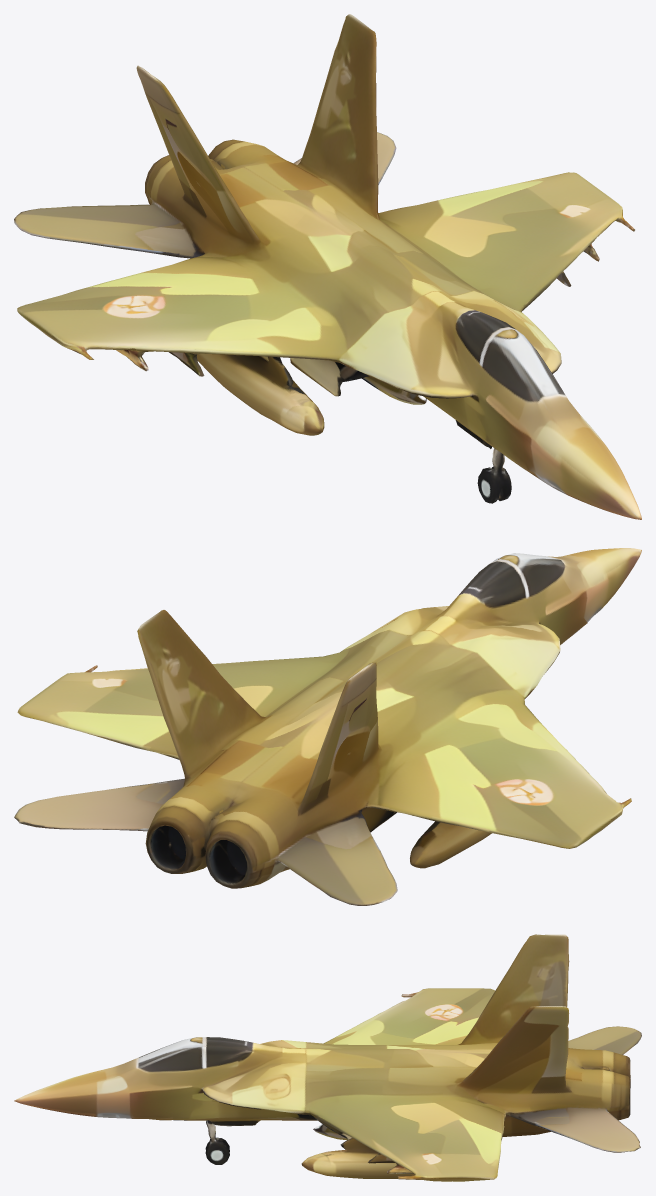
Rendered from fighter_jet.glb.
3 views of the same model, one above another, from view 1: azimuth 30°, elevation 25°; view 2: azimuth 150°, elevation 25°; view 3: azimuth 270°, elevation 25° (orthographic). The views are drawn at different scales.
Visible parts, largest first — view 1: model; view 2: model; view 3: model.
Part boxes in pixels (box(x1,y1,x2,y2)): model: box(14, 14, 641, 519); model: box(14, 548, 641, 905); model: box(14, 934, 641, 1181).
Size of the model in its own units: 1.35 by 0.6435 by 1.9.
1 material, 1 textured.
